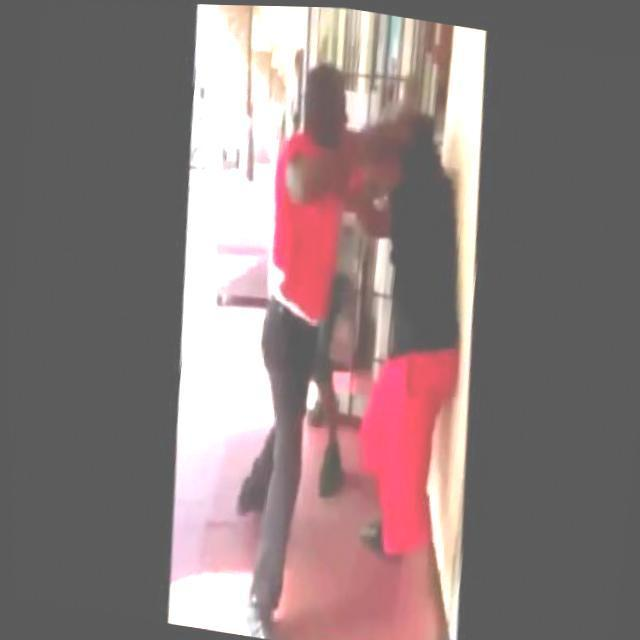fight: (195, 43, 516, 640)
